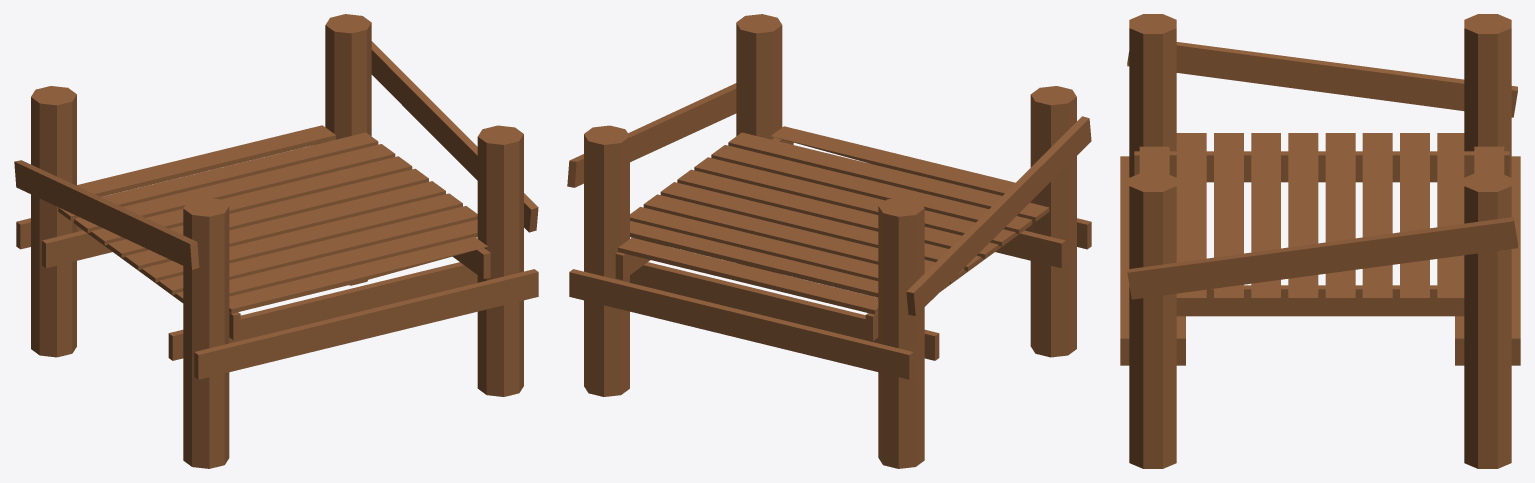
Rendered from Barrier Dock 1.fbx.
3 views of the same model, side by side, from view 1: azimuth 30°, elevation 25°; view 2: azimuth 150°, elevation 25°; view 3: azimuth 270°, elevation 25° (orthographic). The views are drawn at different scales.
Visible parts, largest first — view 1: Barrier Dock 1; view 2: Barrier Dock 1; view 3: Barrier Dock 1.
Boxes of the visible parts, x1,y1,x2,y2 form: Barrier Dock 1: (14,14,538,468); Barrier Dock 1: (567,14,1091,468); Barrier Dock 1: (1120,14,1520,468).
Size of the model in its own units: 414 by 288 by 377.
